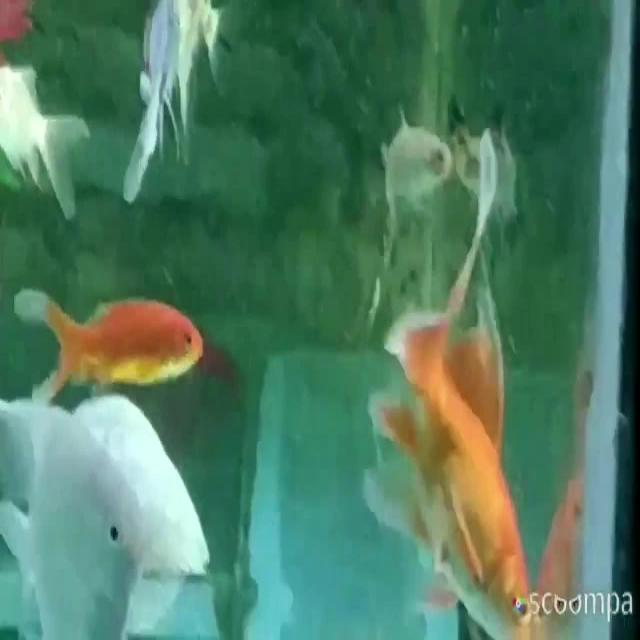GoldFish: (356, 299, 558, 640), (6, 268, 212, 414)
